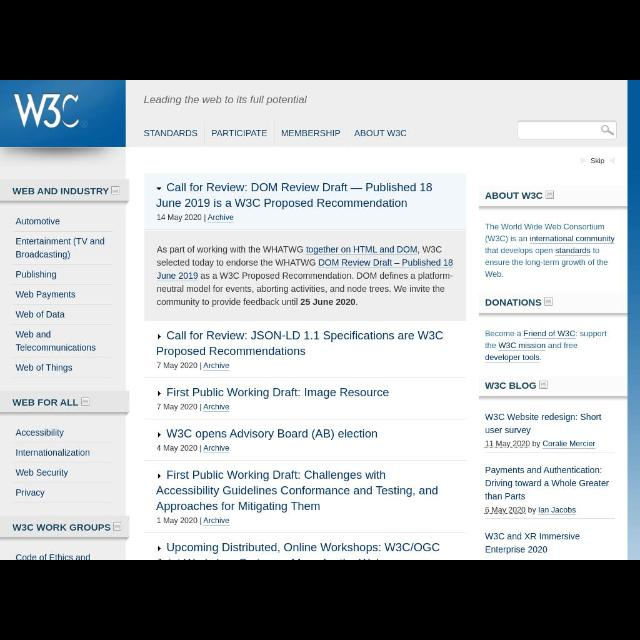icon: (600, 124, 616, 136), (80, 396, 90, 406), (113, 522, 123, 532), (110, 186, 120, 194), (608, 157, 618, 165), (546, 190, 554, 200), (544, 298, 554, 306), (540, 380, 548, 390), (579, 157, 587, 166), (157, 390, 161, 396), (158, 432, 162, 438), (158, 546, 162, 552), (156, 188, 162, 190), (158, 334, 160, 340), (158, 473, 160, 479)
image: (12, 92, 82, 130)
input: (516, 120, 618, 140)
link: (318, 258, 454, 270), (306, 246, 418, 256), (528, 235, 616, 245), (484, 354, 542, 364), (542, 440, 596, 450), (524, 330, 576, 340), (156, 270, 198, 282), (498, 342, 546, 352), (537, 506, 577, 516), (555, 248, 591, 256), (203, 362, 231, 372), (203, 403, 231, 413), (202, 444, 230, 454), (202, 517, 230, 527), (208, 213, 235, 223)
panel: (1, 147, 128, 559)
text: (484, 466, 610, 502), (156, 486, 438, 498), (166, 330, 444, 342), (167, 542, 441, 554), (200, 271, 456, 283), (165, 428, 378, 442), (166, 387, 390, 399), (166, 183, 434, 193), (166, 470, 386, 482), (485, 413, 603, 435), (156, 198, 408, 208), (156, 285, 446, 293), (486, 260, 608, 278), (484, 532, 580, 554), (16, 237, 106, 260), (143, 95, 310, 107), (156, 501, 320, 513), (16, 331, 96, 352), (157, 298, 359, 306), (156, 346, 306, 356), (156, 258, 316, 266), (156, 246, 304, 254), (11, 522, 111, 532), (484, 223, 606, 231), (12, 188, 108, 196), (16, 290, 76, 300), (16, 449, 90, 457), (142, 128, 198, 138), (16, 364, 72, 374), (484, 440, 540, 450), (485, 248, 553, 256), (484, 506, 536, 516), (15, 310, 65, 320), (15, 429, 64, 439), (13, 553, 92, 559), (282, 130, 341, 138), (12, 399, 78, 406), (156, 362, 202, 372), (156, 403, 202, 413), (156, 444, 202, 454), (156, 516, 202, 526), (212, 130, 268, 138), (485, 298, 541, 306), (157, 213, 201, 223), (16, 270, 58, 280), (354, 130, 406, 138), (16, 470, 68, 478), (484, 382, 536, 390), (484, 234, 528, 243), (15, 217, 60, 225), (484, 192, 544, 198), (16, 489, 46, 499), (485, 330, 521, 338), (548, 342, 578, 350), (579, 331, 607, 339), (419, 246, 443, 254), (590, 157, 604, 165), (484, 342, 496, 348), (594, 248, 600, 254)
toolbar: (1, 80, 630, 146)
